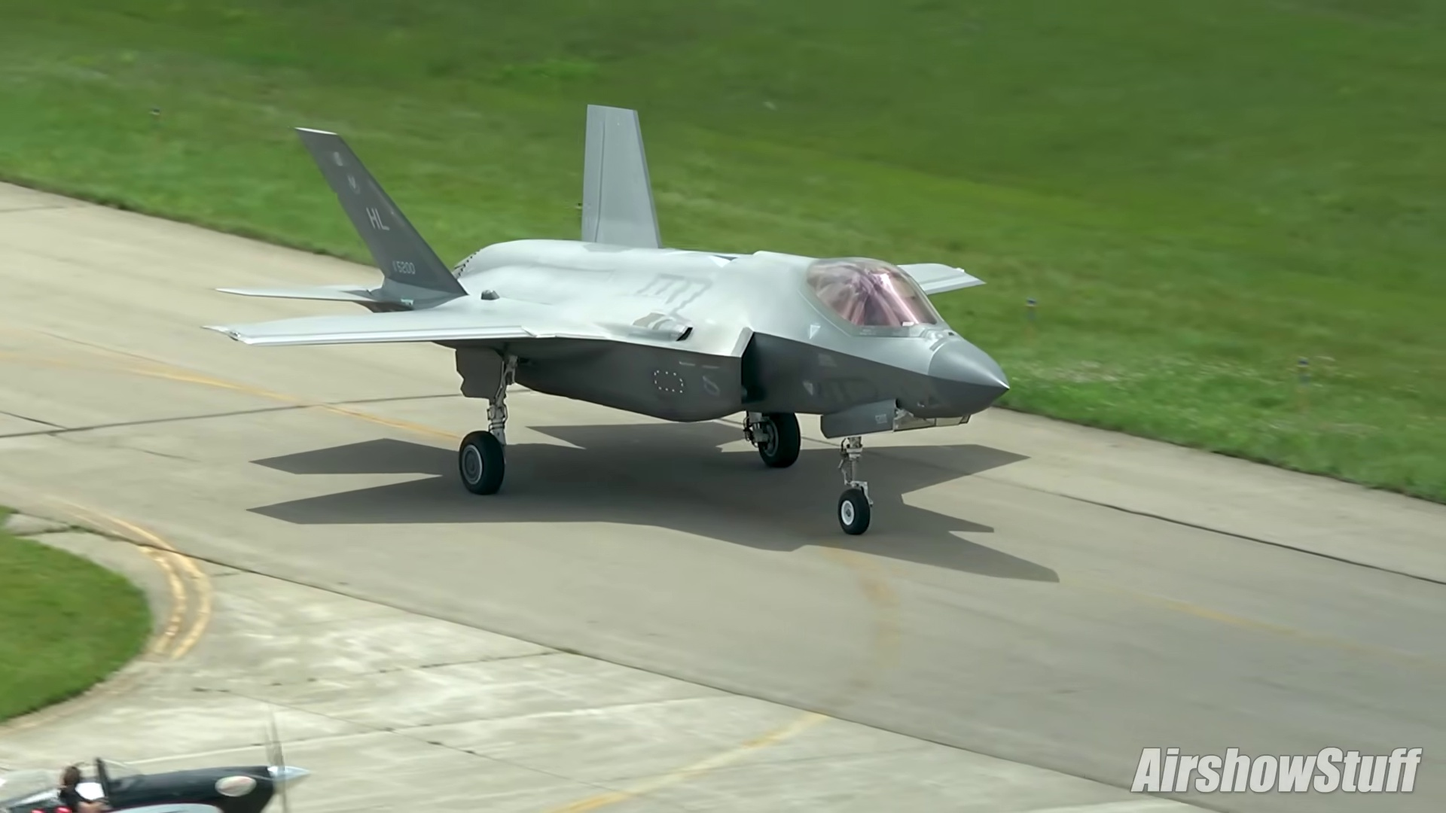F35: (197, 100, 1021, 545)
